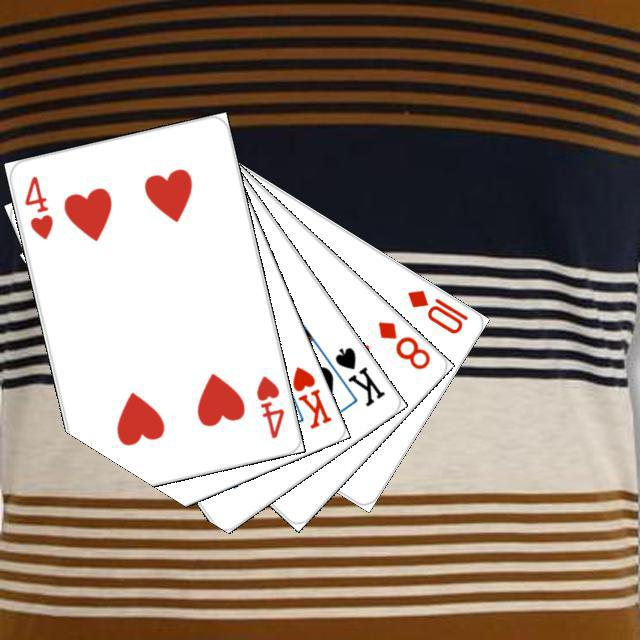10d: (402, 284, 470, 336)
4h: (19, 171, 55, 241), (251, 371, 286, 440)
8d: (372, 316, 432, 371)
Kh: (274, 361, 334, 431)
Ks: (329, 342, 387, 409)
